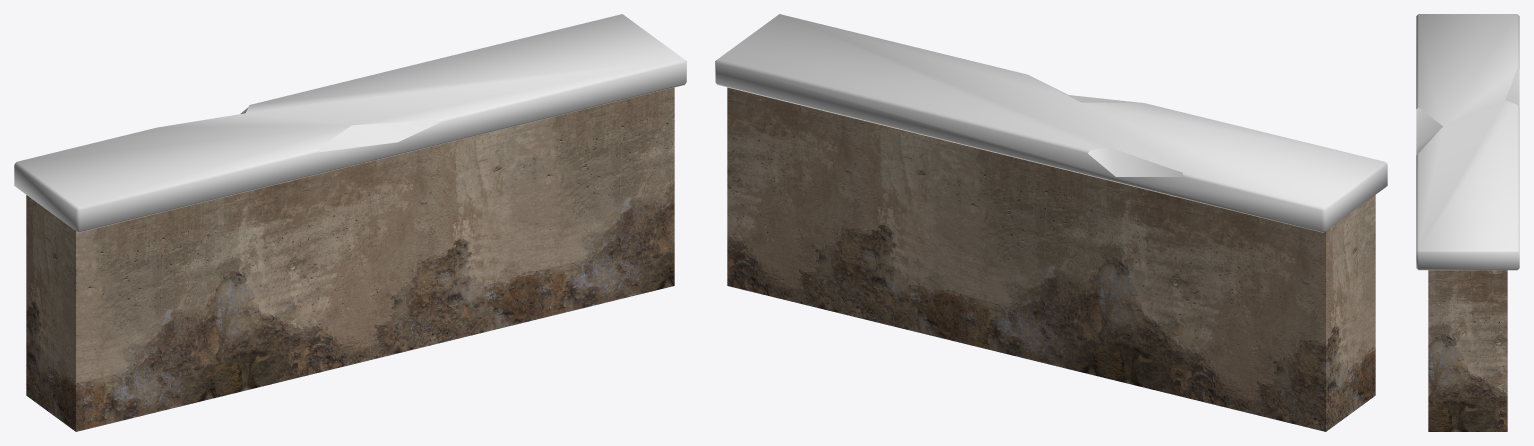
Rendered from wall1_old.fbx.
The picture shows the model from 3 angles, left to right: view 1: azimuth 30°, elevation 25°; view 2: azimuth 150°, elevation 25°; view 3: azimuth 270°, elevation 25°; orthographic projection. The views are drawn at different scales.
Parts seen in each view (by area): view 1: polySurface15; view 2: polySurface15; view 3: polySurface15.
Boxes of the visible parts, box(x1,y1,x2,y2) form: polySurface15: box(14, 14, 686, 431); polySurface15: box(715, 14, 1387, 431); polySurface15: box(1416, 14, 1519, 431).
Bounding box in the file's own units: 6.28 × 2.26 × 1.15.
